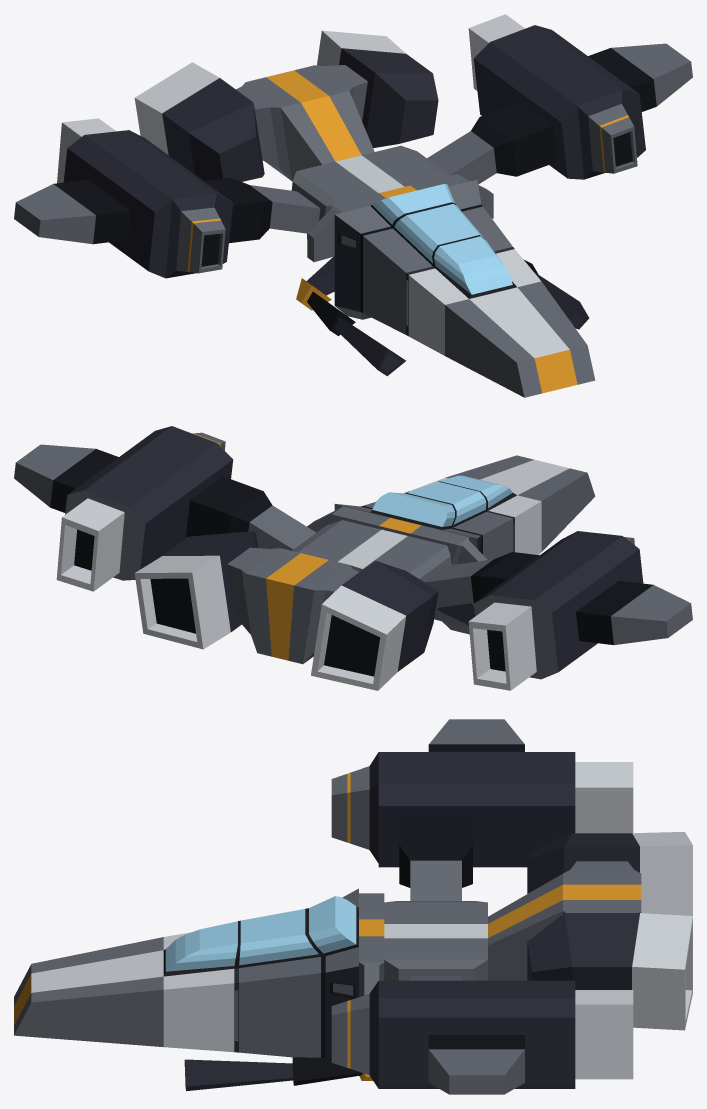
The model's file is NaveBase.fbx.
The picture shows the model from 3 angles, top to bottom: view 1: azimuth 30°, elevation 25°; view 2: azimuth 150°, elevation 25°; view 3: azimuth 270°, elevation 25°; orthographic projection. The views are drawn at different scales.
Visible parts, largest first — view 1: nave; view 2: nave; view 3: nave.
Part boxes in pixels (x1=…): nave: x1=14, y1=14, x2=692, y2=397; nave: x1=14, y1=426, x2=692, y2=690; nave: x1=14, y1=719, x2=692, y2=1094.
Bounding box in the file's own units: 1105 × 238 × 886.
